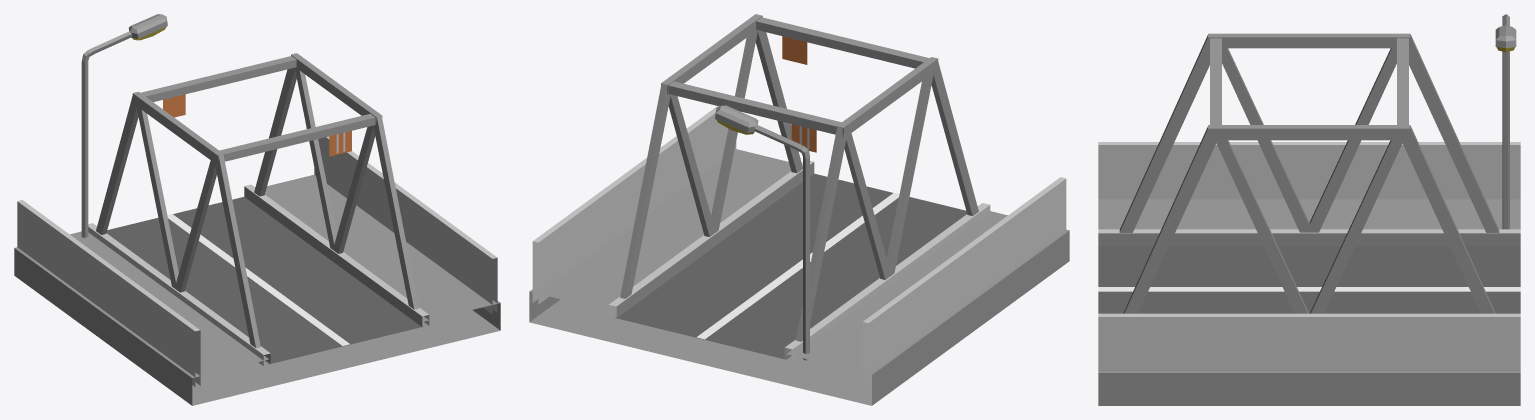
Rendered from road_tile_bridge_1x1_005.glb.
3 renders of one model, left to right at view 1: azimuth 30°, elevation 25°; view 2: azimuth 150°, elevation 25°; view 3: azimuth 270°, elevation 25°, orthographic. The views are drawn at different scales.
Parts seen in each view (by area): view 1: road_tile_bridge_1x1_005; view 2: road_tile_bridge_1x1_005; view 3: road_tile_bridge_1x1_005.
Boxes of the visible parts, bbox=[...] form: road_tile_bridge_1x1_005: bbox=[14, 14, 500, 405]; road_tile_bridge_1x1_005: bbox=[529, 14, 1069, 405]; road_tile_bridge_1x1_005: bbox=[1098, 14, 1520, 405].
Bounding box in the file's own units: 8 × 5.73 × 8.
Materials: 1 (1 with a texture image).
